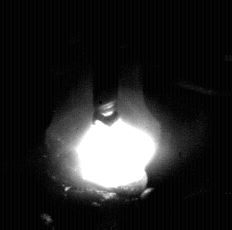arame: (93, 0, 120, 126)
poca: (47, 0, 161, 230)
